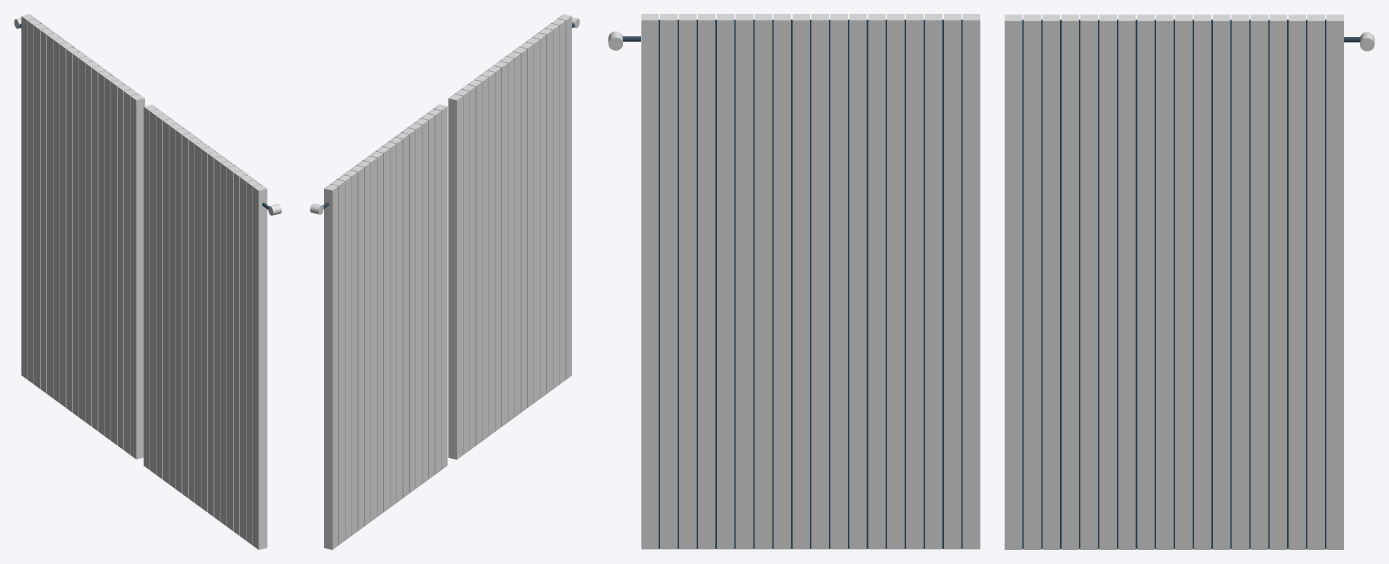
The model's file is Wide Heater.fbx.
3 renders of one model, left to right at view 1: azimuth 30°, elevation 25°; view 2: azimuth 150°, elevation 25°; view 3: azimuth 270°, elevation 25°, orthographic. The views are drawn at different scales.
Parts seen in each view (by area): view 1: Left Heater, Right Heater; view 2: Right Heater, Left Heater; view 3: Left Heater, Right Heater.
Boxes of the visible parts, x1,y1,x2,y2 form: Left Heater: [143, 104, 281, 549]; Right Heater: [14, 14, 144, 459]; Right Heater: [310, 104, 447, 549]; Left Heater: [448, 14, 579, 459]; Left Heater: [608, 14, 980, 549]; Right Heater: [1004, 14, 1374, 549].
Bounding box in the file's own units: 15.05 × 400 × 525.
